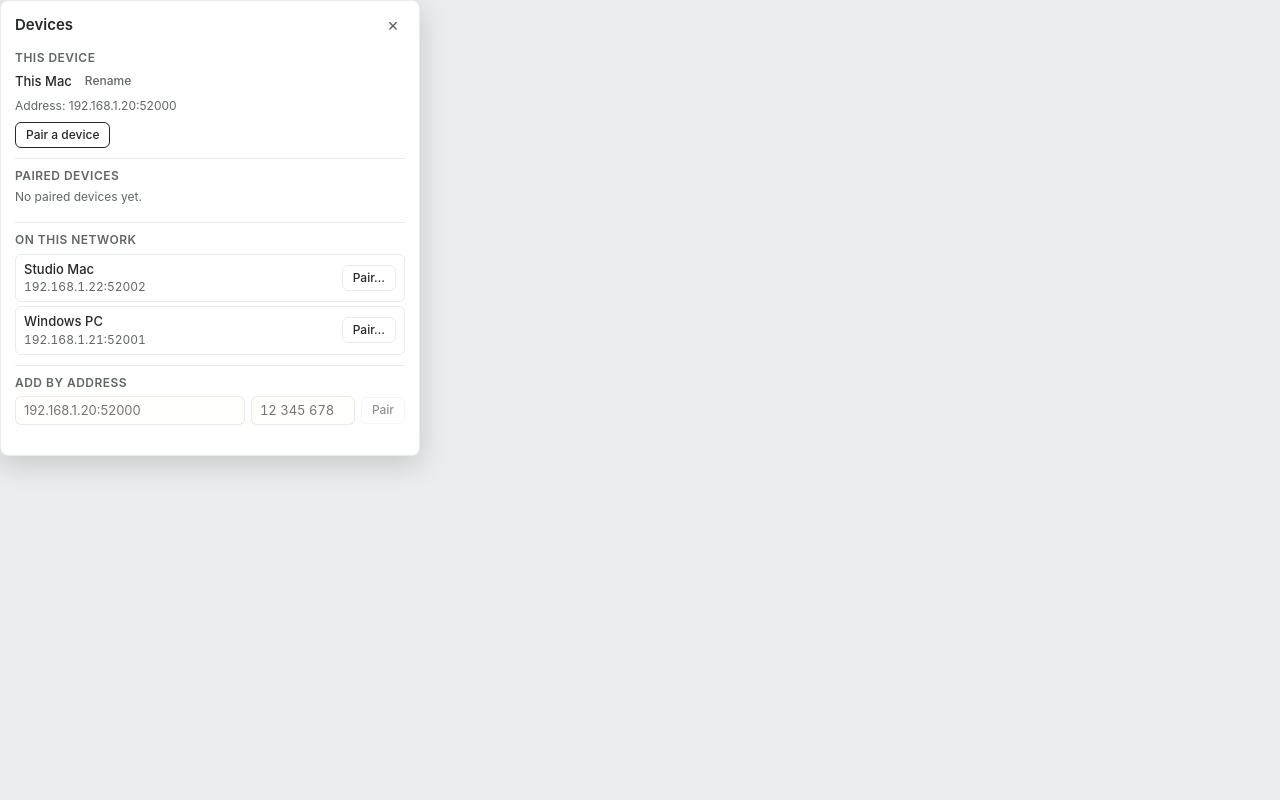
Test: DevicesDialog › shows a pairing code in large type after 'Pair a device'
The width and height of the screenshot is (1280, 800).
Click the button with test id "devices-begin-pairing": point(63, 135) [15,122,110,148]
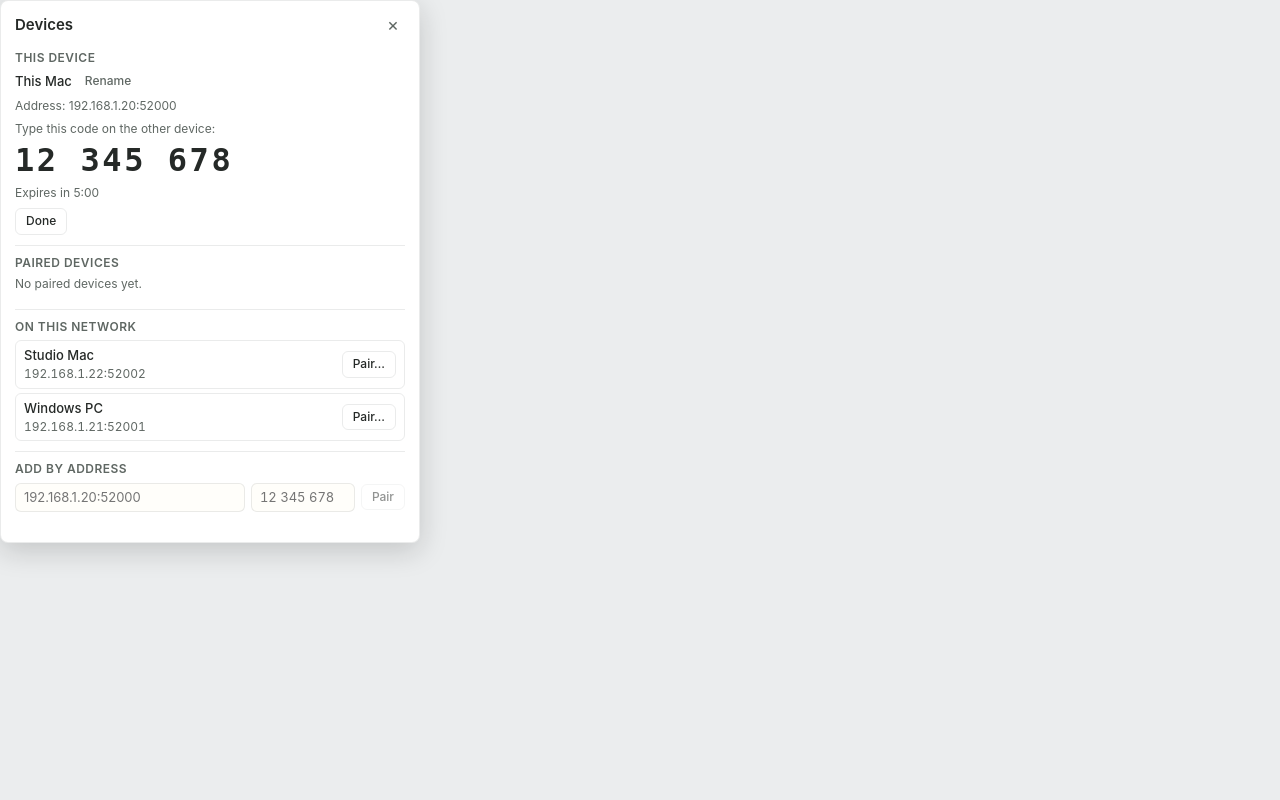
Expected: the text with test id "devices-pairing-code" reads "12 345 678", [15,141,233,179]
Expected: the element with test id "devices-pairing" reads "Type this code on the other device: 12 345 678 Expires in 5:00 Done", [15,121,233,235]
Click the button "Done": point(41, 222) [15,208,67,235]
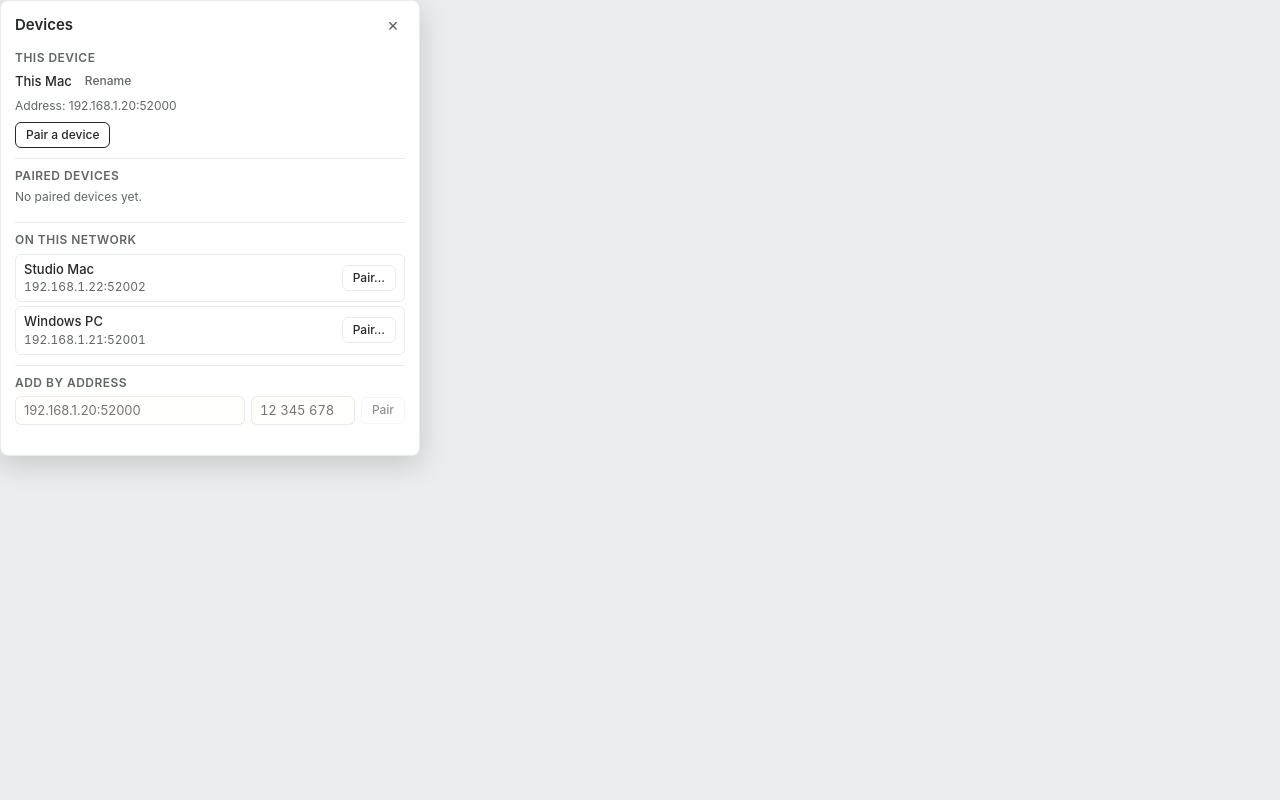
Expected: the text with test id "devices-pairing-code" is gone
